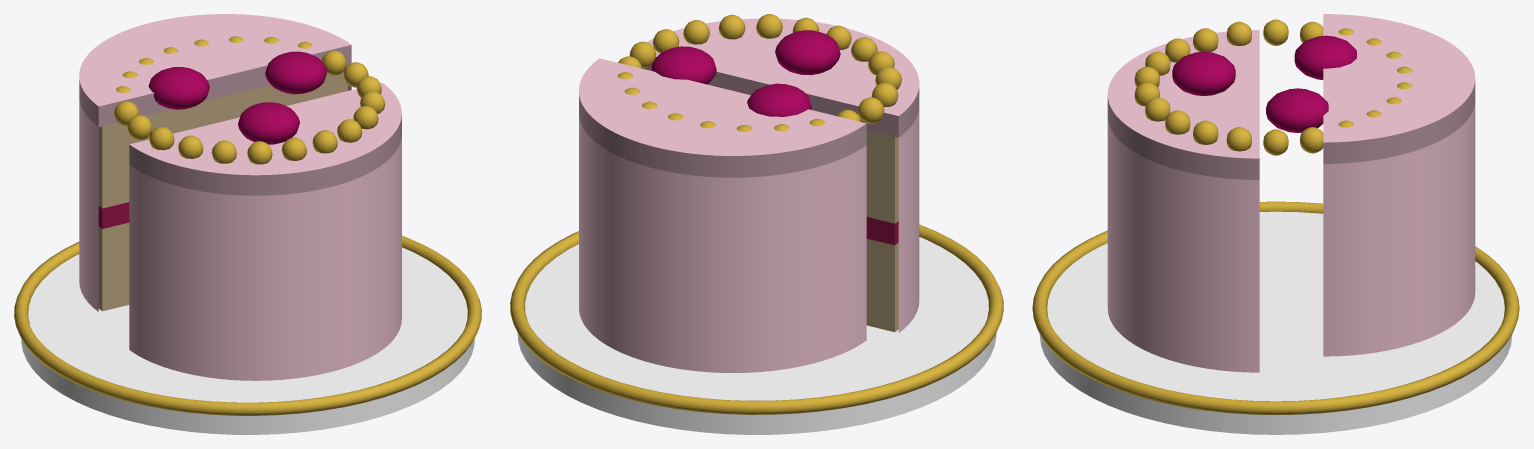
File: torta-10cm-8alto-1p-2porc-rosa.glb
The picture shows the model from 3 angles, left to right: view 1: azimuth 30°, elevation 25°; view 2: azimuth 150°, elevation 25°; view 3: azimuth 270°, elevation 25°; orthographic projection. The views are drawn at different scales.
Bounding box in the file's own units: 0.165 × 0.1016 × 0.165.
